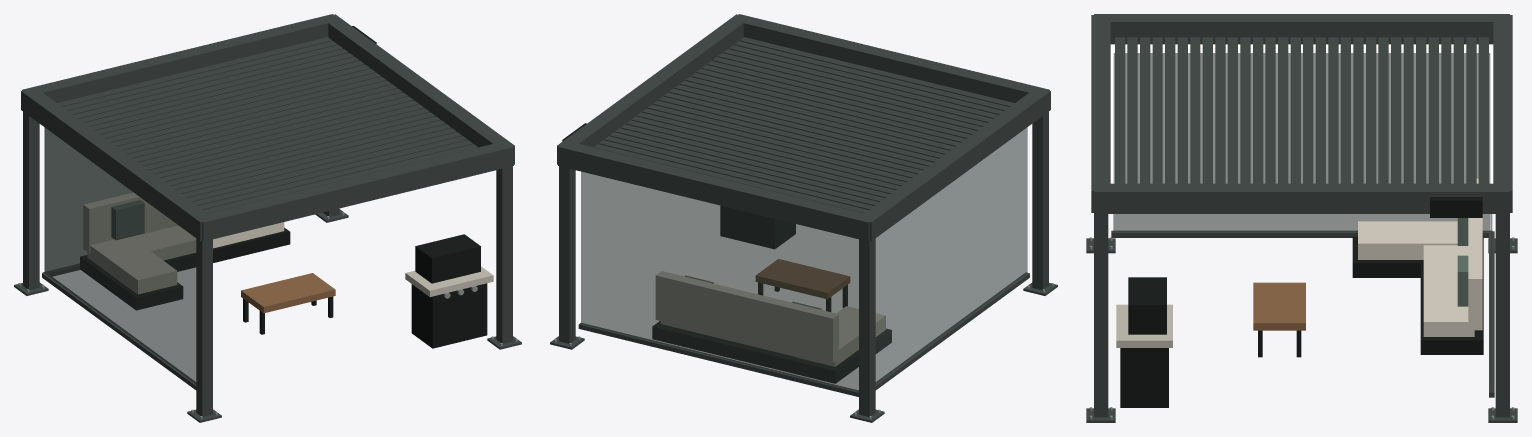
File: coordinatez-axis-13x13-carbon.glb
The picture shows the model from 3 angles, left to right: view 1: azimuth 30°, elevation 25°; view 2: azimuth 150°, elevation 25°; view 3: azimuth 270°, elevation 25°; orthographic projection. The views are drawn at different scales.
Parts seen in each view (by area): view 1: Left motorized wall, Structural post (×3), Front motor beam, Rear drainage beam, Rear motorized wall, Left beam, Right beam, BBQ cabinet, Chaise cushion, BBQ hood, Coffee table top, Sofa seat (+34 smaller); view 2: Rear motorized wall, Left motorized wall, Sofa back, Structural post (×3), Rear drainage beam, Front motor beam, Left beam, Right beam, Sofa base, Coffee table top, BBQ cabinet, Rear wall bottom rail (+31 smaller); view 3: Left motorized wall, Right beam, Left beam, Structural post (×2), Sofa seat, Rear drainage beam, Front motor beam, Chaise cushion, BBQ cabinet, Coffee table top, BBQ hood, Left wall bottom rail (+39 smaller).
Boxes of the visible parts, x1=… form: Left motorized wall: x1=44, y1=127, x2=196, y2=383; Structural post (×3): x1=23, y1=111, x2=512, y2=416; Front motor beam: x1=195, y1=144, x2=513, y2=241; Rear drainage beam: x1=22, y1=14, x2=339, y2=102; Rear motorized wall: x1=45, y1=128, x2=132, y2=272; Left beam: x1=21, y1=87, x2=209, y2=241; Right beam: x1=322, y1=14, x2=514, y2=164; BBQ cabinet: x1=411, y1=283, x2=487, y2=348; Chaise cushion: x1=87, y1=237, x2=176, y2=294; BBQ hood: x1=415, y1=234, x2=480, y2=283; Coffee table top: x1=241, y1=273, x2=335, y2=313; Sofa seat: x1=132, y1=222, x2=284, y2=260; Rear motorized wall: x1=581, y1=171, x2=858, y2=391; Left motorized wall: x1=875, y1=127, x2=1027, y2=383; Sofa back: x1=656, y1=271, x2=838, y2=362; Structural post (×3): x1=559, y1=111, x2=1048, y2=416; Rear drainage beam: x1=558, y1=142, x2=876, y2=241; Front motor beam: x1=732, y1=14, x2=1049, y2=102; Left beam: x1=860, y1=87, x2=1050, y2=241; Right beam: x1=557, y1=14, x2=749, y2=164; Sofa base: x1=652, y1=321, x2=858, y2=383; Coffee table top: x1=756, y1=259, x2=849, y2=298; BBQ cabinet: x1=720, y1=206, x2=795, y2=248; Rear wall bottom rail: x1=578, y1=323, x2=858, y2=396; Left motorized wall: x1=1113, y1=53, x2=1490, y2=231; Right beam: x1=1094, y1=183, x2=1509, y2=213; Left beam: x1=1094, y1=14, x2=1509, y2=44; Structural post (×2): x1=1094, y1=214, x2=1509, y2=417; Sofa seat: x1=1423, y1=245, x2=1474, y2=336; Rear drainage beam: x1=1493, y1=15, x2=1512, y2=212; Front motor beam: x1=1091, y1=15, x2=1110, y2=212; Chaise cushion: x1=1358, y1=221, x2=1457, y2=259; BBQ cabinet: x1=1120, y1=348, x2=1168, y2=407; Coffee table top: x1=1253, y1=282, x2=1305, y2=330; BBQ hood: x1=1128, y1=277, x2=1166, y2=334; Left wall bottom rail: x1=1111, y1=230, x2=1492, y2=237.
Bounding box in the file's own units: 4.29 × 2.49 × 4.25.
